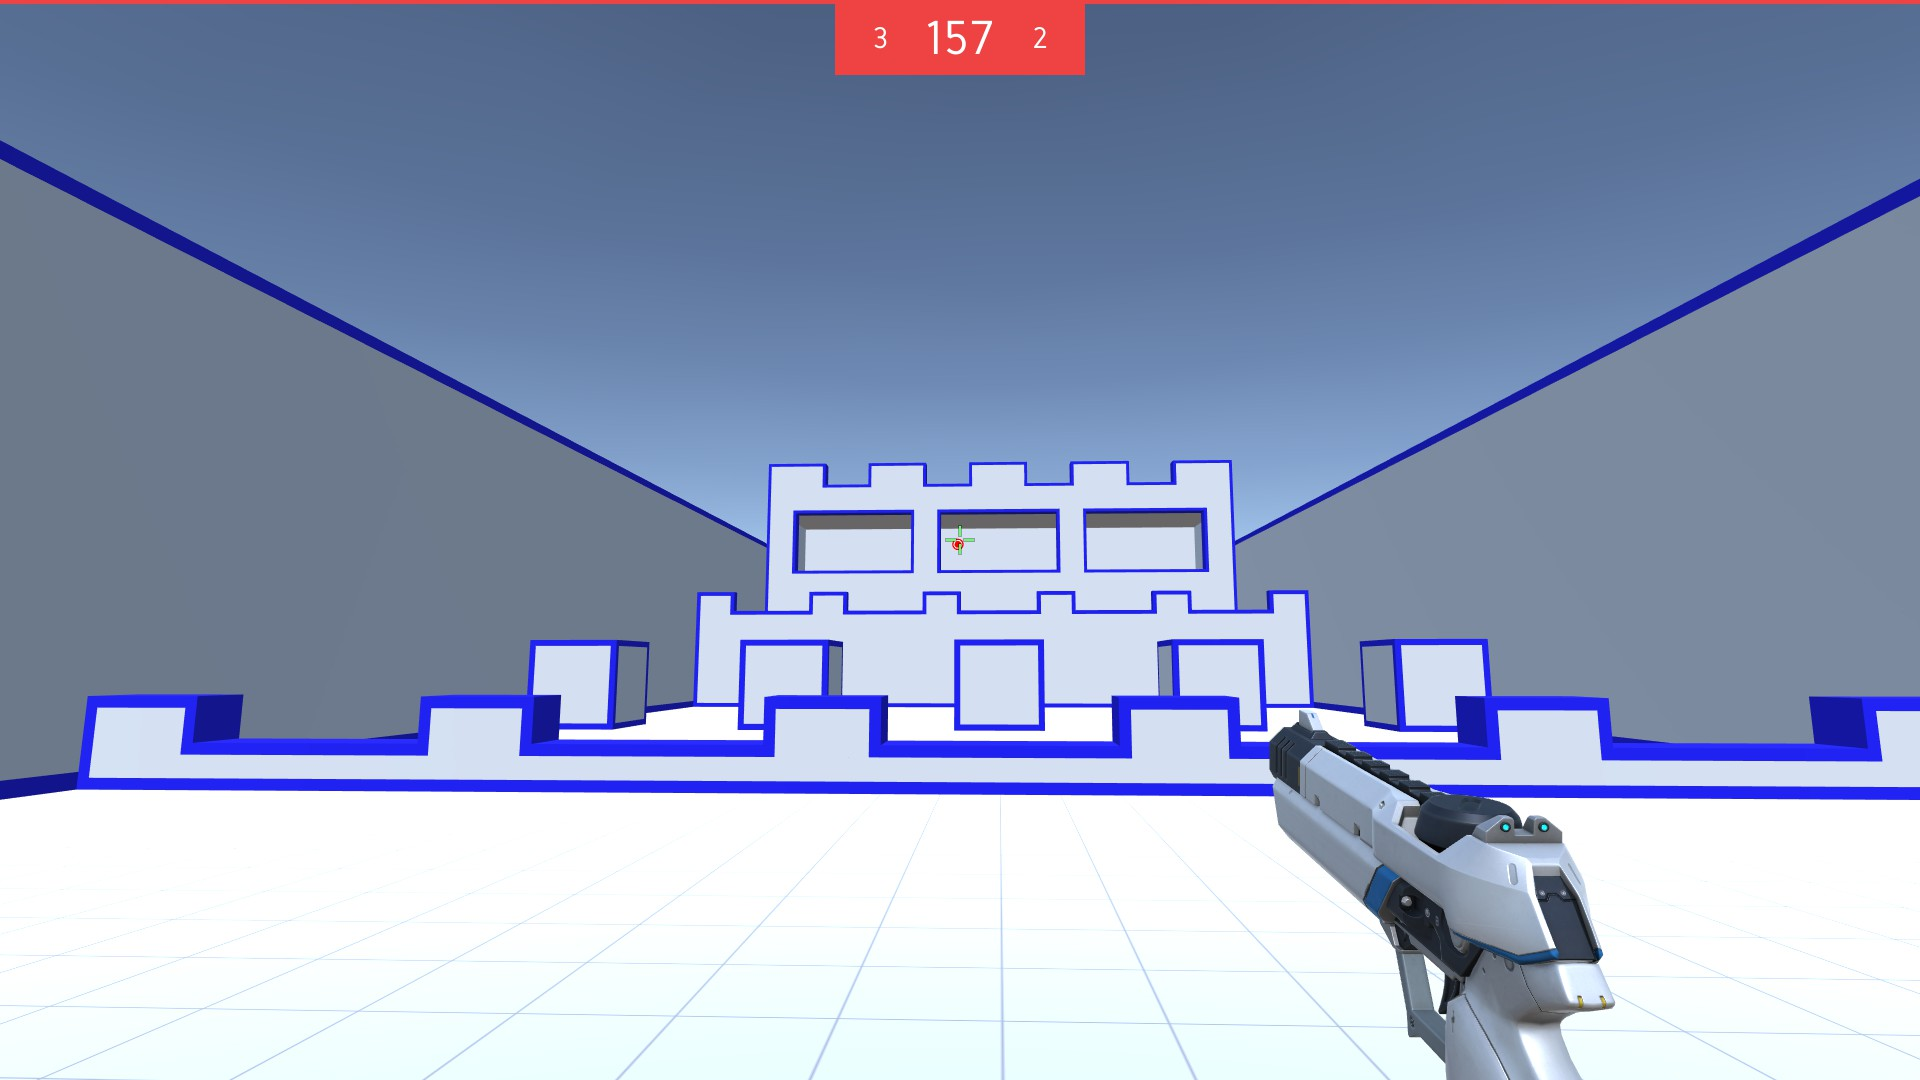target: (949, 538, 967, 553)
